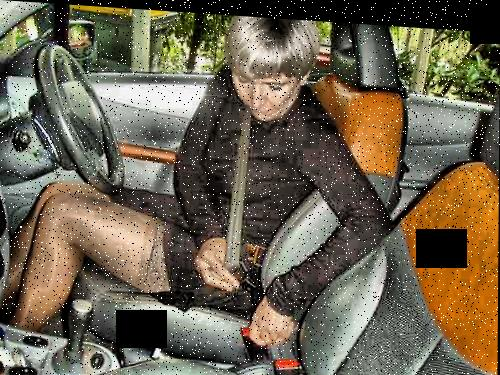seatbelt: (228, 102, 261, 286)
